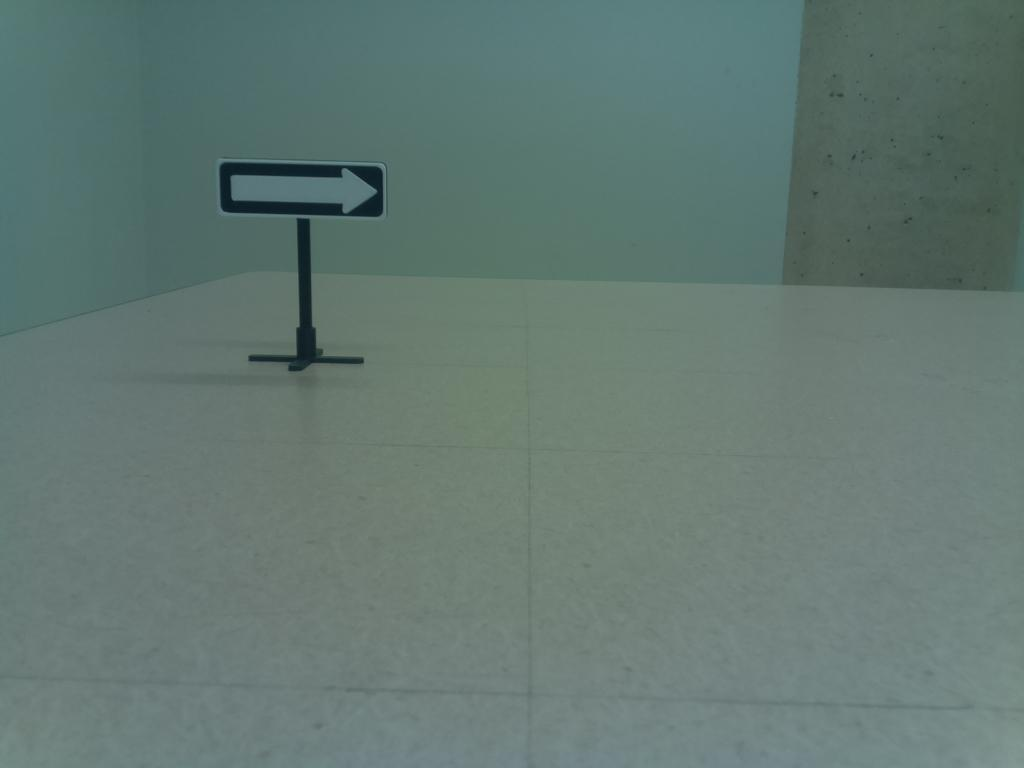sign_oneway_right: (210, 150, 393, 226)
